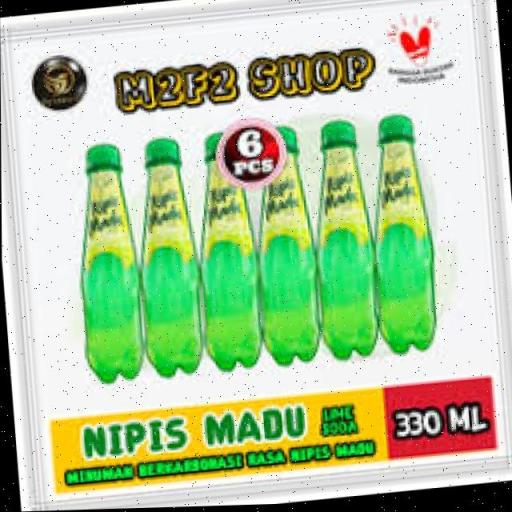plastic: (58, 134, 162, 407), (296, 107, 390, 363), (244, 123, 336, 377), (359, 108, 448, 362), (123, 120, 207, 388), (188, 118, 268, 380)
